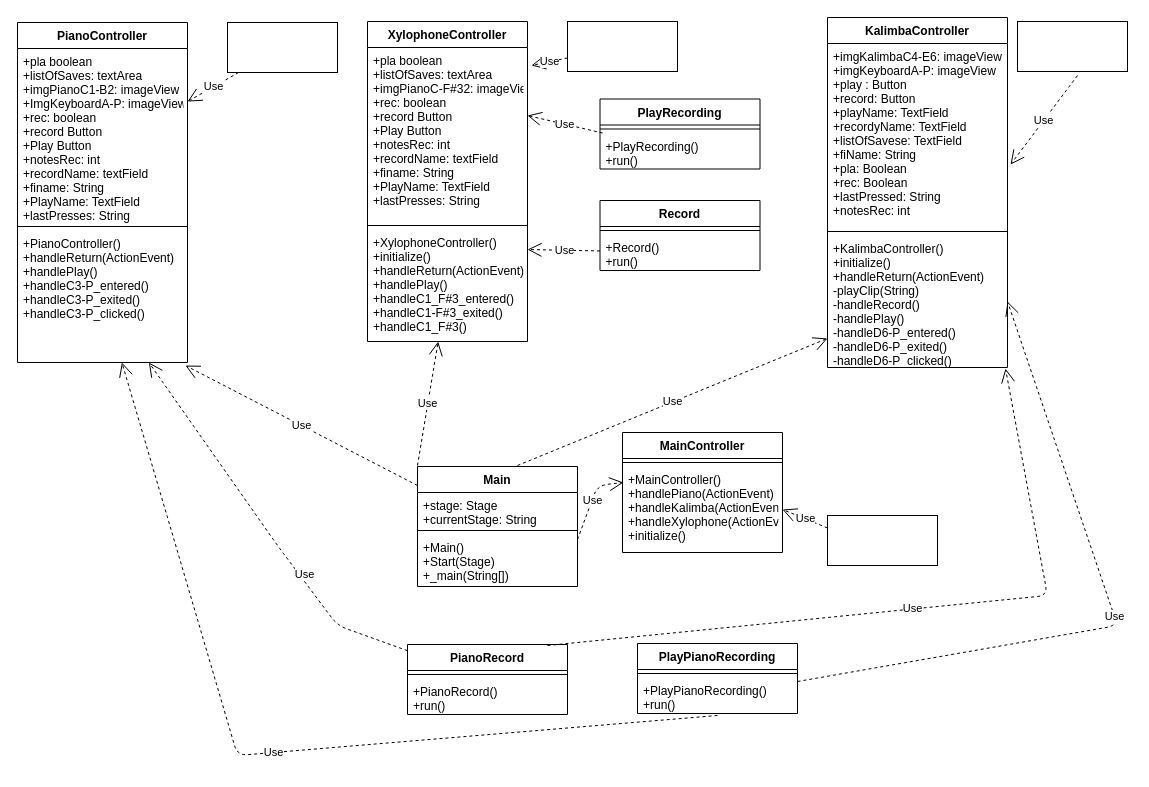
The diagram is 1149 pixels wide and 787 high, and some of its shapes have lost their labels. The centre of each missing label's shape, as x and y in pixels:
Kalimba.fxml: the point at 1072,46
Main.fxml: the point at 882,540
Piano.fxml: the point at 282,47
Xylophone.fxml: the point at 622,46
